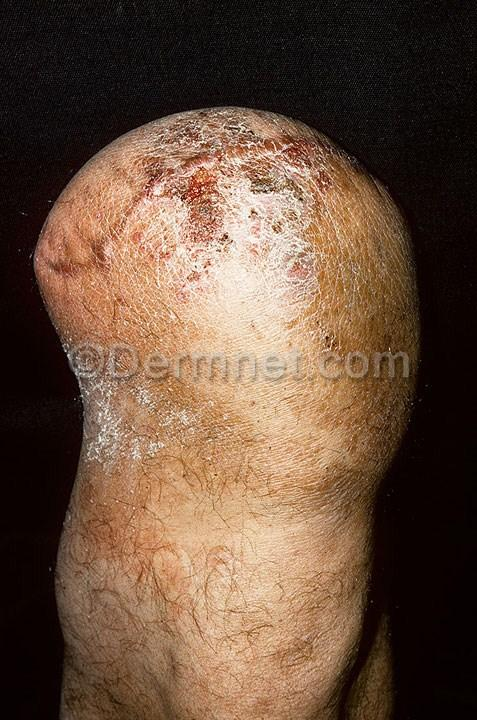Eczema: (142, 90, 358, 299), (303, 302, 427, 488), (48, 340, 214, 471), (31, 216, 172, 328)
